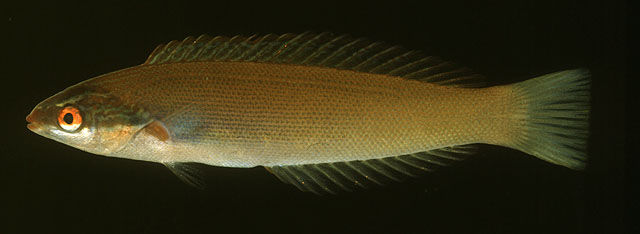fish: (26, 32, 592, 193)
